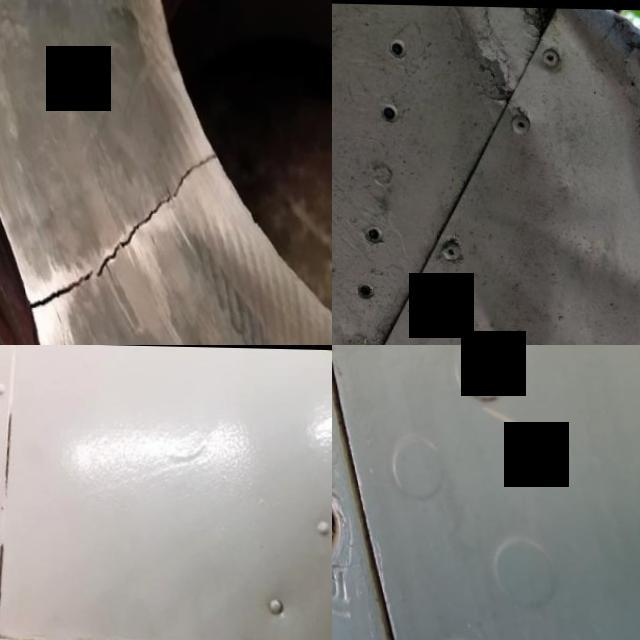Crack: (13, 140, 218, 325)
Dent: (393, 3, 640, 345)
Missing_Fastener: (332, 455, 379, 609)
